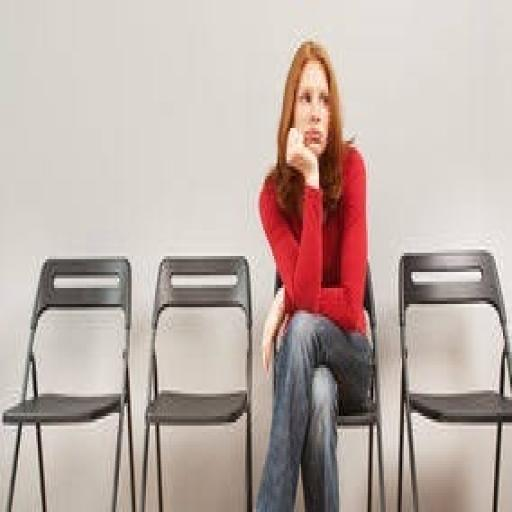sitting: (252, 35, 375, 509)
